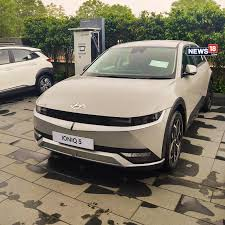Honda Ioniq: (32, 37, 216, 180)
